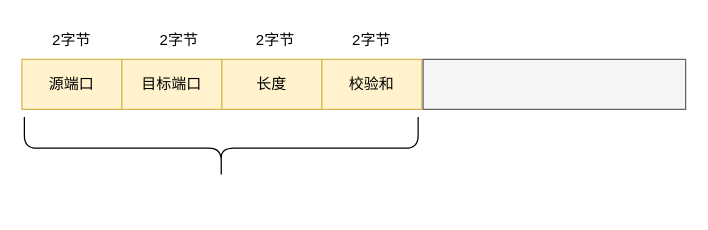
The diagram is 708 pixels wide and 230 high, and some of its shapes have lost their labels. The shapes that lost their labels are listed below. From the top down, each one's centre as x and y in pixels, then its label:
(x=554, y=83): 数据
(x=220, y=147): 头部信息
